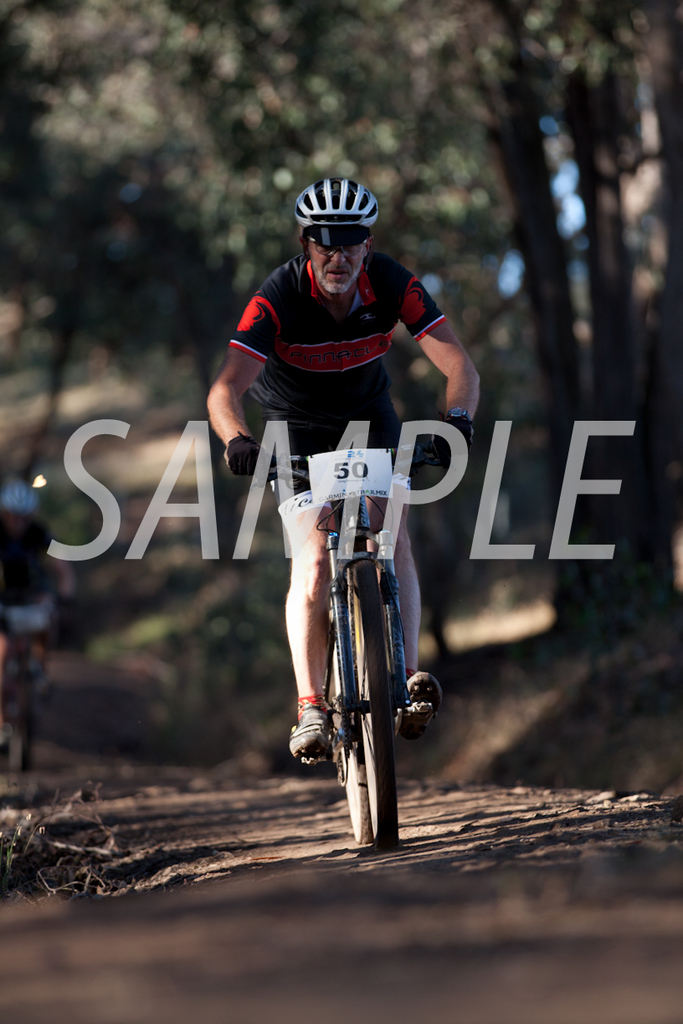Bike_toward: (220, 418, 482, 850)
